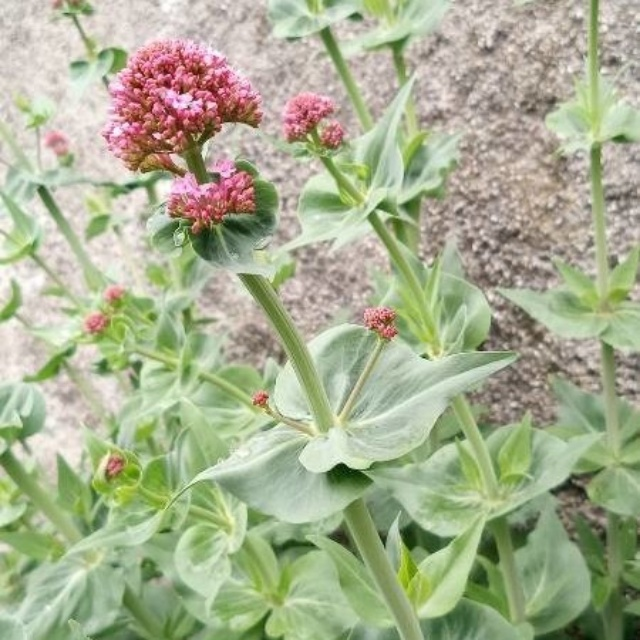obstacle: (68, 43, 559, 620)
